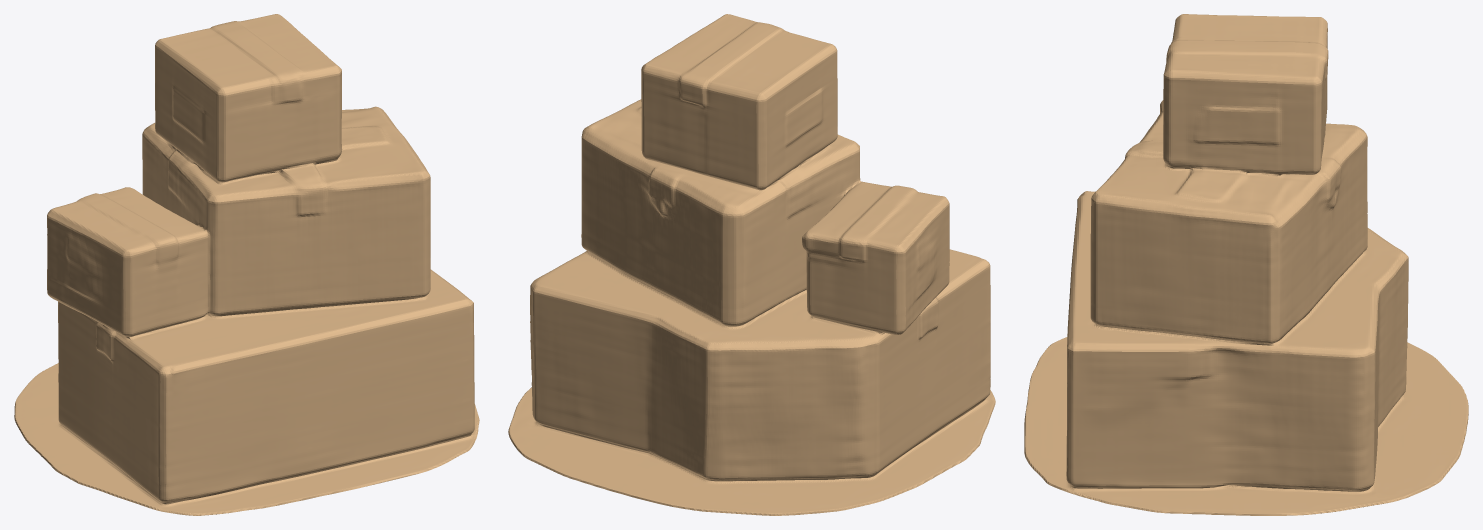
Rendered from 目标公寓_搬家纸箱堆_Modly低清试件.fbx.
3 renders of one model, left to right at view 1: azimuth 30°, elevation 25°; view 2: azimuth 150°, elevation 25°; view 3: azimuth 270°, elevation 25°, orthographic. The views are drawn at different scales.
Parts seen in each view (by area): view 1: geometry_0; view 2: geometry_0; view 3: geometry_0.
Part boxes in pixels (<box>): geometry_0: <box>14,14,479,515</box>; geometry_0: <box>508,14,995,515</box>; geometry_0: <box>1024,14,1468,515</box>.
Bounding box in the file's own units: 200 × 176 × 187.
